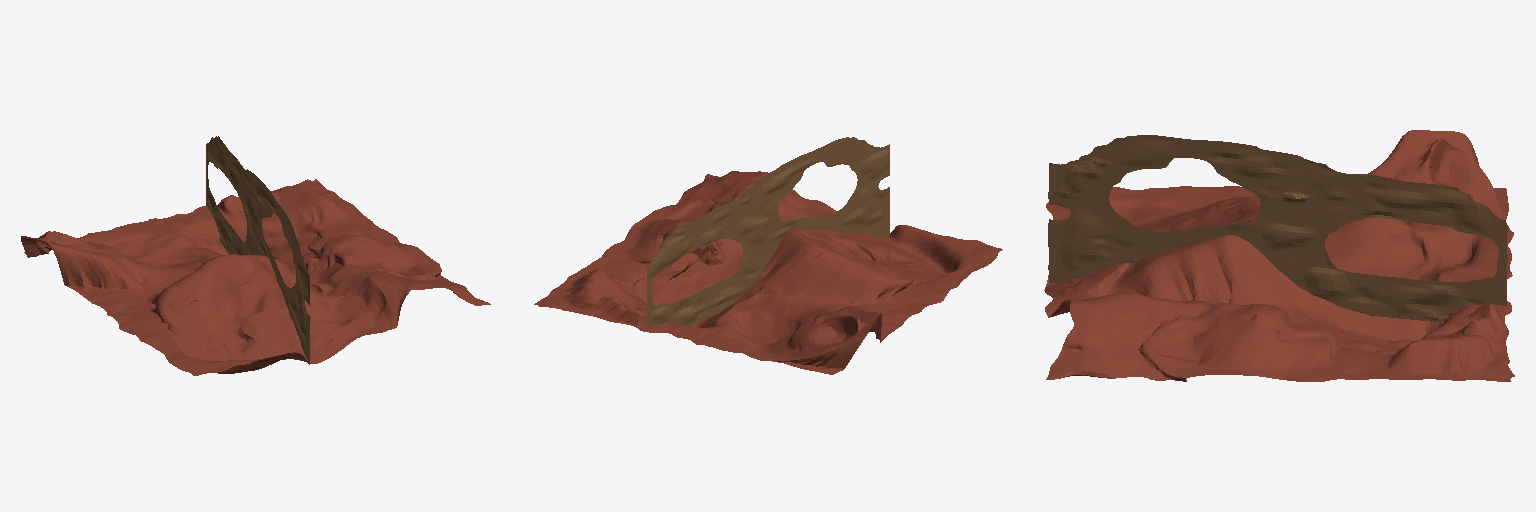
robot.urdf — obstacle:
<?xml version="1.0"?>
<robot name="obstacle">
  <link name="base_link">
    <inertial>
      <origin xyz="0 0 0" /> 
      <mass value="1.0" />
      <inertia  ixx="1.0" ixy="0.0"  ixz="0.0"  iyy="1.0"  iyz="0.0"  izz="1.0" />
    </inertial>
    <visual>
      <origin xyz="0 0 0"/>
      <geometry>
        <mesh filename="package://hpp-rbprm-corba/meshes/desert.dae"/>
      </geometry>
    </visual>
    <collision>
      <origin xyz="0 0 0"/>
      <geometry>
        <mesh filename="package://hpp-rbprm-corba/meshes/desert.stl"/>
      </geometry>
    </collision>
  </link>
</robot>

--- What the picture shows (computed from the rendered views, not written in the file) ---
Views: 3 orthographic renders of the robot side by side, from view 1: azimuth 30°, elevation 25°; view 2: azimuth 150°, elevation 25°; view 3: azimuth 270°, elevation 25°.
Model obstacle with 1 links and 0 joints (none), rooted at base_link, posed all joints at 0.
Links seen in each view (by area): view 1: base_link; view 2: base_link; view 3: base_link.
Link boxes in pixels (x1,y1,x2,y2): base_link: [21, 136, 490, 375]; base_link: [534, 137, 1002, 374]; base_link: [1044, 130, 1514, 381].
Bounding box of the posed robot: 17.38 × 16.86 × 7 m (x, y, z).
Meshes: 1 distinct files referenced, 1 mesh visuals loaded (1 Collada DAE).